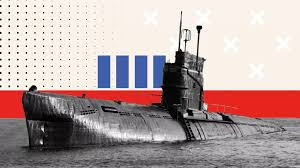Submarine: (23, 50, 286, 148)
